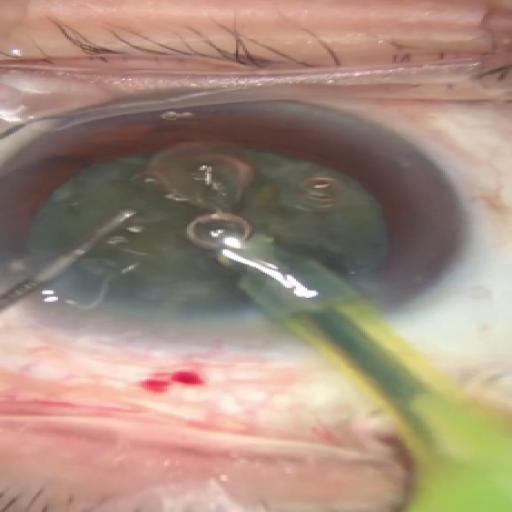catarata: (0, 85, 485, 350)
cornea: (33, 145, 390, 331)
